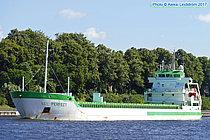Ship: (5, 85, 204, 123)
